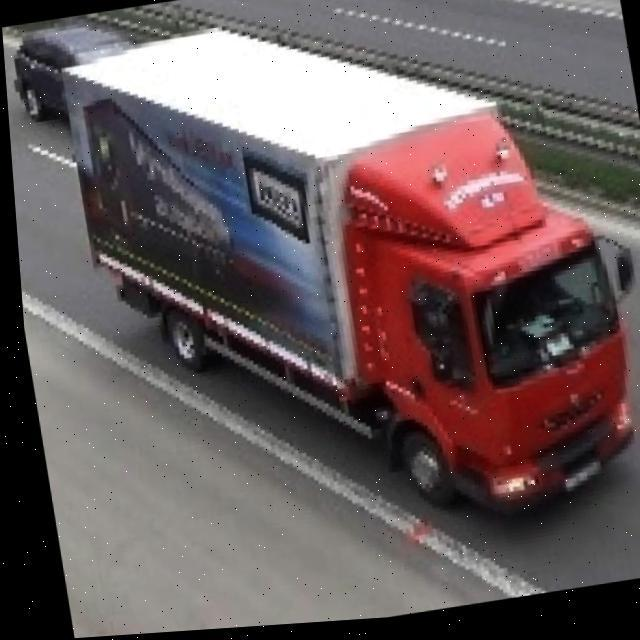truck: (56, 0, 640, 577)
